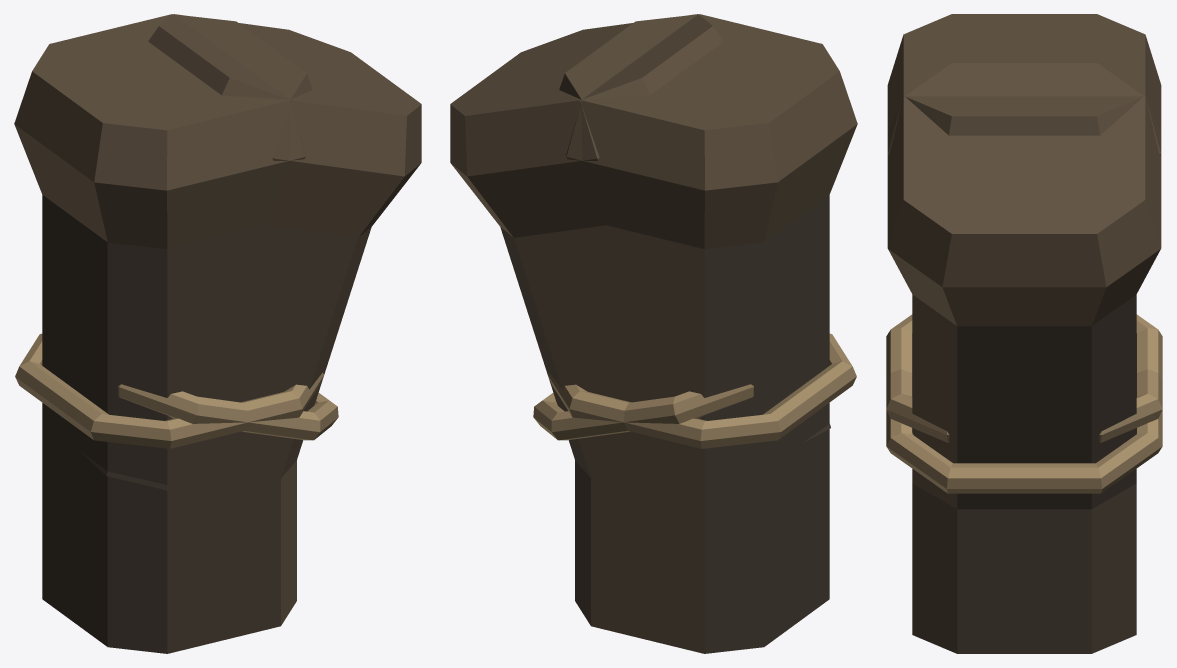
File: i07_mooring_post.glb
The picture shows the model from 3 angles, left to right: view 1: azimuth 30°, elevation 25°; view 2: azimuth 150°, elevation 25°; view 3: azimuth 270°, elevation 25°; orthographic projection. The views are drawn at different scales.
Visible parts, largest first — view 1: I07_Upright_Post_OctagonalFlaredCap, I07_Broken_Post_LeaningUpper, I07_Broken_Post_Stump, I07_Upright_SingleLowRopeLoop, I07_Broken_SingleLowRopeLoop; view 2: I07_Upright_Post_OctagonalFlaredCap, I07_Broken_Post_LeaningUpper, I07_Broken_Post_Stump, I07_Upright_SingleLowRopeLoop, I07_Broken_SingleLowRopeLoop; view 3: I07_Broken_Post_LeaningUpper, I07_Upright_Post_OctagonalFlaredCap, I07_Broken_Post_Stump, I07_Broken_SingleLowRopeLoop, I07_Upright_SingleLowRopeLoop.
Boxes of the visible parts, left/top/right/bottom form: I07_Upright_Post_OctagonalFlaredCap: left=14, top=14, right=312, bottom=600; I07_Broken_Post_LeaningUpper: left=81, top=14, right=421, bottom=497; I07_Broken_Post_Stump: left=42, top=452, right=296, bottom=653; I07_Upright_SingleLowRopeLoop: left=15, top=333, right=323, bottom=448; I07_Broken_SingleLowRopeLoop: left=118, top=384, right=338, bottom=440; I07_Upright_Post_OctagonalFlaredCap: left=559, top=14, right=857, bottom=600; I07_Broken_Post_LeaningUpper: left=450, top=14, right=830, bottom=480; I07_Broken_Post_Stump: left=575, top=462, right=829, bottom=653; I07_Upright_SingleLowRopeLoop: left=548, top=333, right=856, bottom=448; I07_Broken_SingleLowRopeLoop: left=533, top=384, right=753, bottom=440; I07_Broken_Post_LeaningUpper: left=887, top=63, right=1161, bottom=509; I07_Upright_Post_OctagonalFlaredCap: left=887, top=14, right=1161, bottom=599; I07_Broken_Post_Stump: left=912, top=483, right=1136, bottom=653; I07_Broken_SingleLowRopeLoop: left=886, top=314, right=1162, bottom=493; I07_Upright_SingleLowRopeLoop: left=886, top=369, right=1162, bottom=442.
Size of the model in its own units: 0.7932 by 1.23 by 0.5551.
